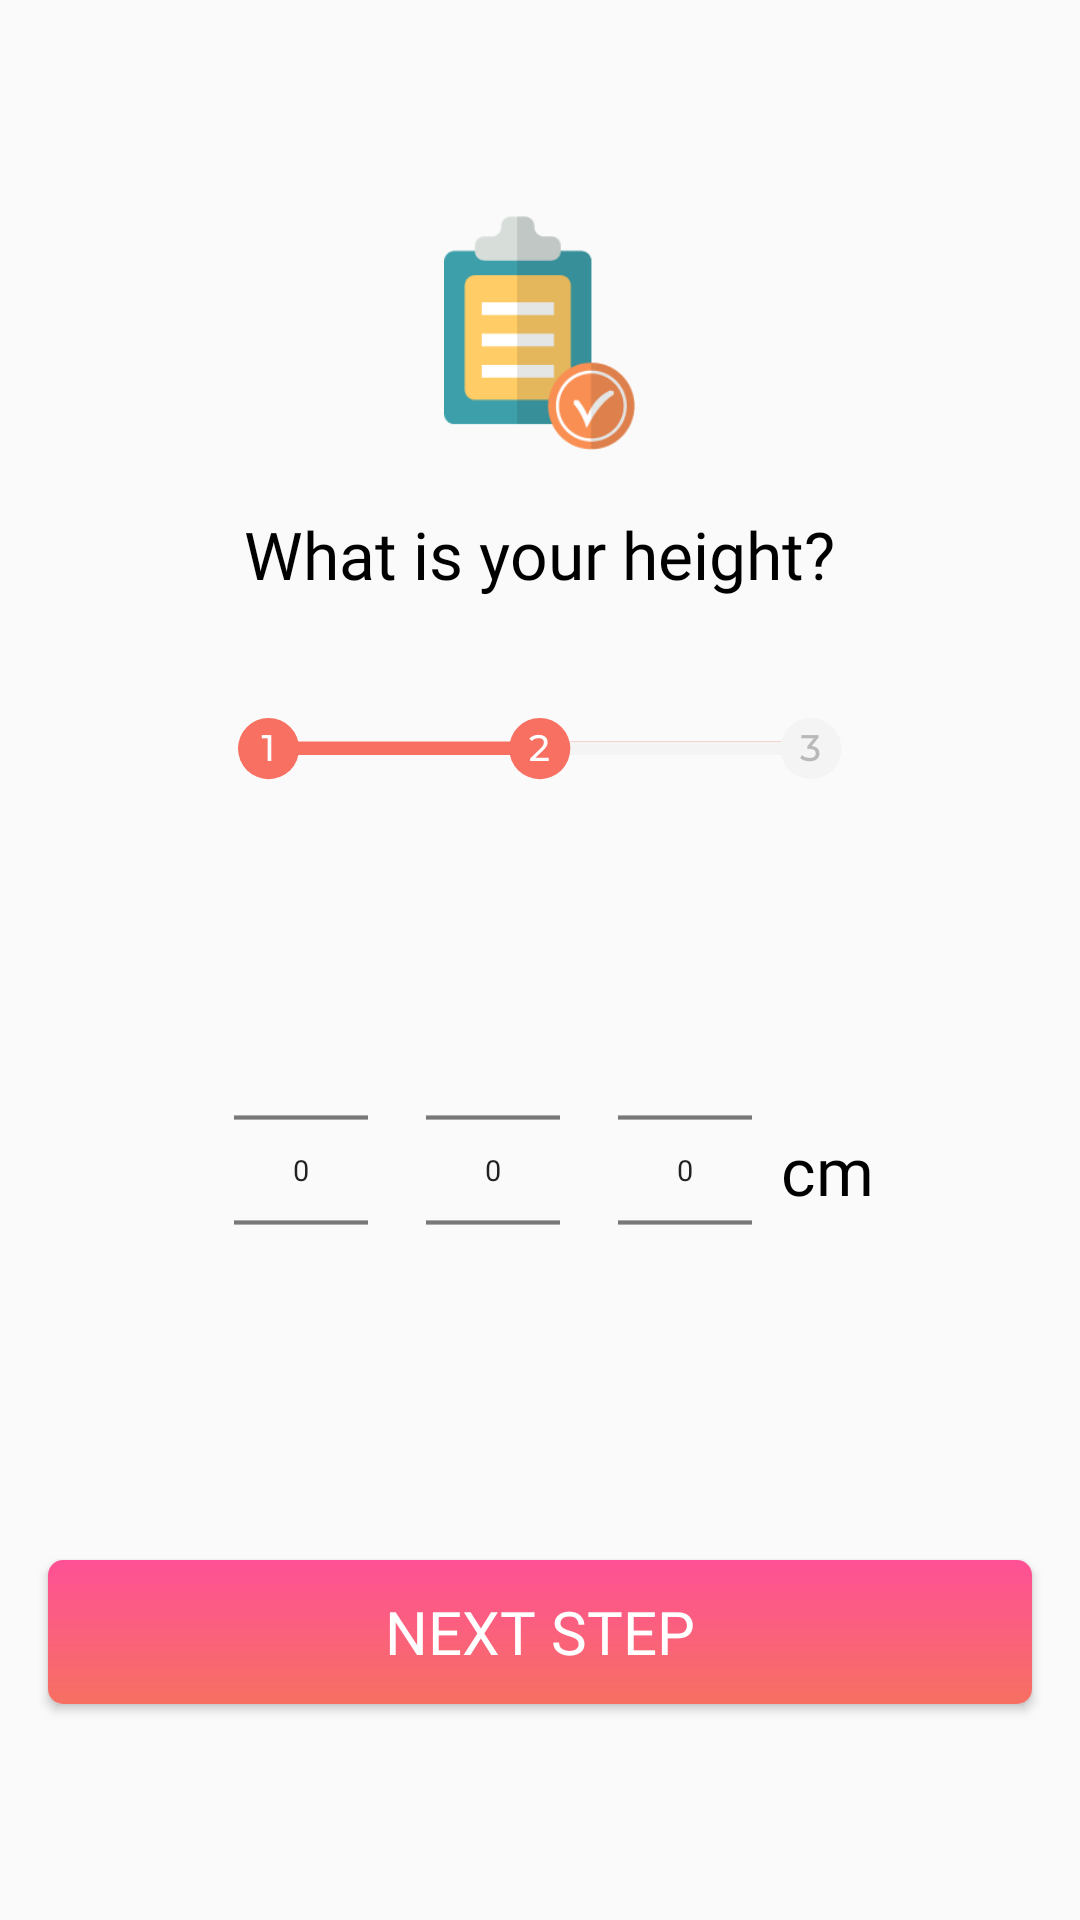

Icons on this 1080x1920 Android screen, each with the point to tap as (x,y):
note: (539,333)
